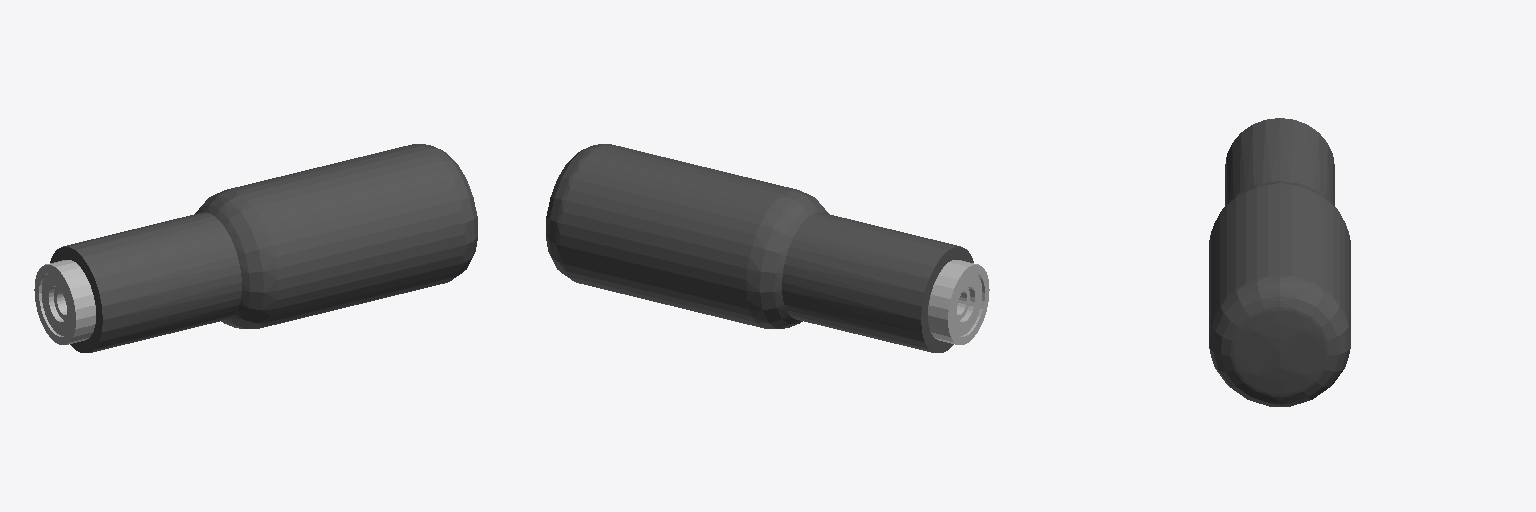
3 views of the same model, side by side, from view 1: azimuth 30°, elevation 25°; view 2: azimuth 150°, elevation 25°; view 3: azimuth 270°, elevation 25° (orthographic).
Visible parts, largest first — view 1: gn_798_2-kt-24-m6_1; view 2: gn_798_2-kt-24-m6_1; view 3: gn_798_2-kt-24-m6_1.
Part boxes in pixels (x1,y1,x2,y2): gn_798_2-kt-24-m6_1: (34,144,477,352); gn_798_2-kt-24-m6_1: (546,144,989,352); gn_798_2-kt-24-m6_1: (1209,118,1350,406).
Bounding box in the file's own units: 77.9 × 24 × 23.92.